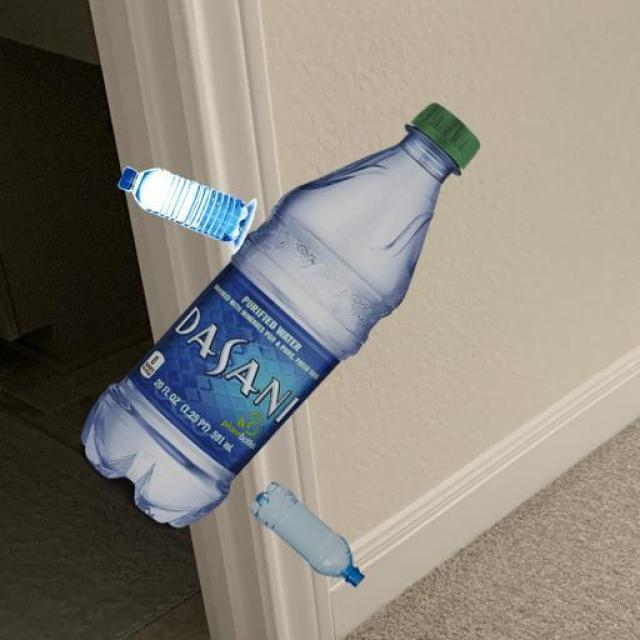plastic: (81, 104, 478, 526), (255, 490, 362, 584)
